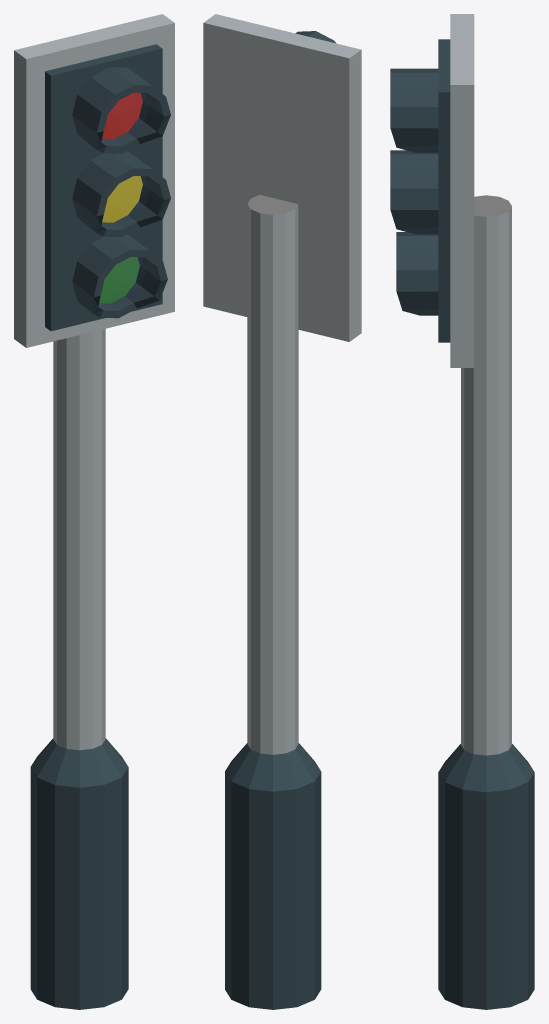
The picture shows the model from 3 angles, left to right: view 1: azimuth 30°, elevation 25°; view 2: azimuth 150°, elevation 25°; view 3: azimuth 270°, elevation 25°; orthographic projection. The views are drawn at different scales.
Parts seen in each view (by area): view 1: node_MeshObject938227712-PolyPaper17; view 2: node_MeshObject938227712-PolyPaper17; view 3: node_MeshObject938227712-PolyPaper17.
Part boxes in pixels (bbox=[...]): node_MeshObject938227712-PolyPaper17: bbox=[14, 14, 174, 1009]; node_MeshObject938227712-PolyPaper17: bbox=[203, 14, 361, 1009]; node_MeshObject938227712-PolyPaper17: bbox=[390, 14, 534, 1009].
Size of the model in its own units: 0.28 by 1.73 by 0.24.
